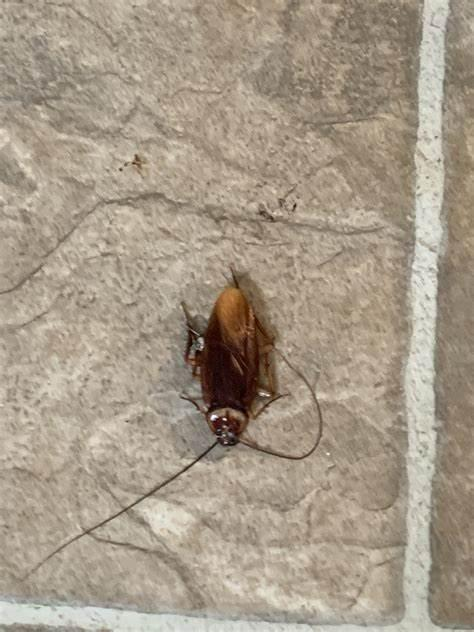cockroach: (183, 268, 277, 456)
